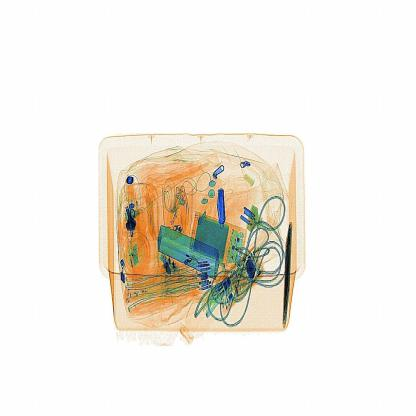knife: (212, 181, 234, 226)
